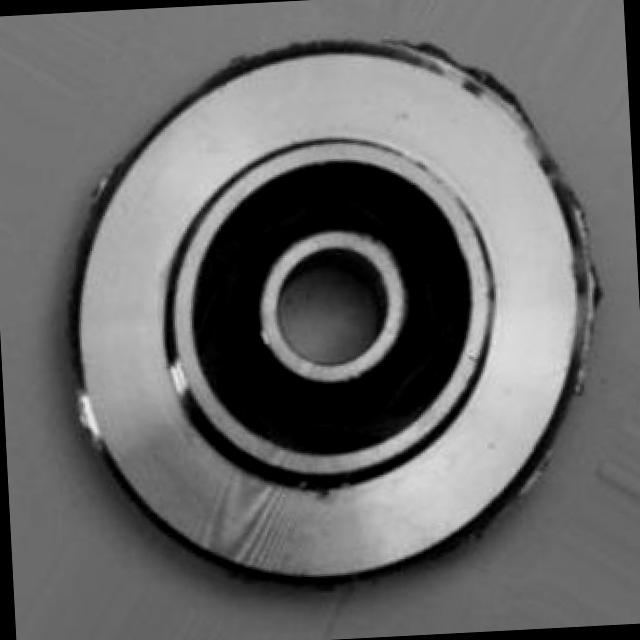Defect: (564, 206, 602, 284), (408, 28, 462, 73)
